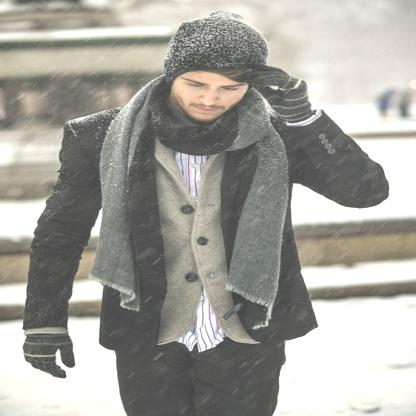dress: (22, 75, 378, 352)
jean: (14, 6, 387, 416)
